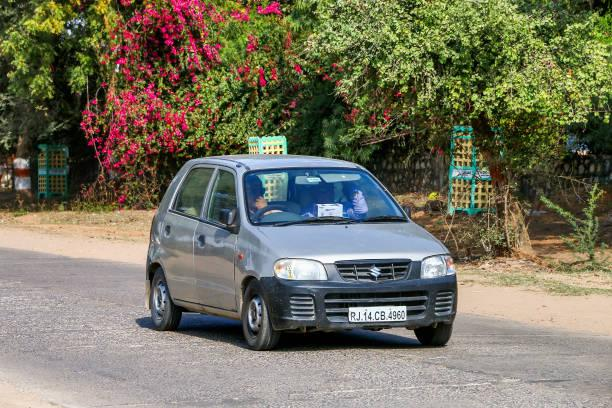suzuki: (368, 264, 388, 281)
